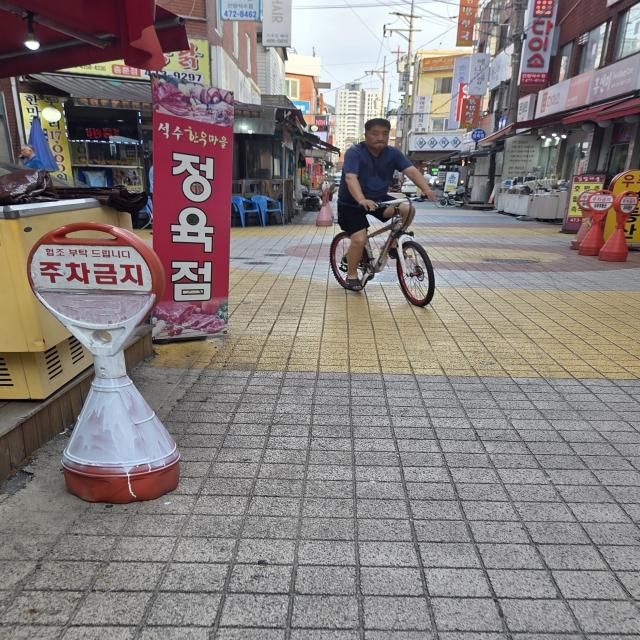bicycle: (311, 103, 460, 317)
